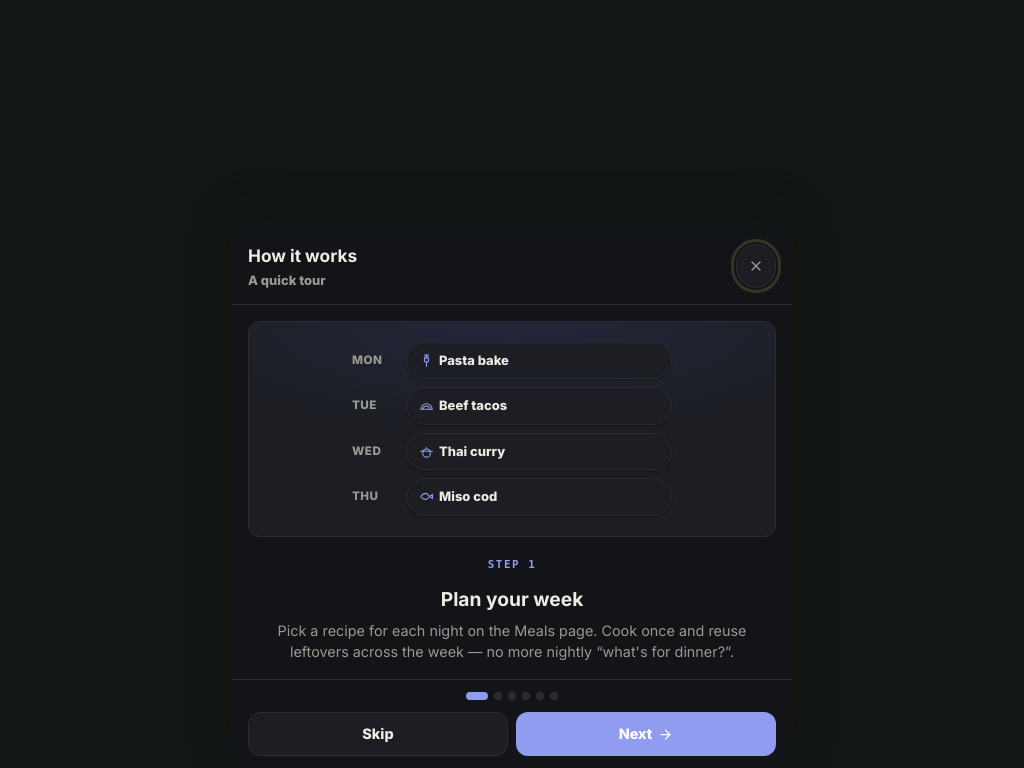
Test: WalkthroughSheet › jumps to a step via its dot
Click the tab named "Step 6: Cook from your shop" at (554, 696), box left=550, top=692, right=558, bottom=700
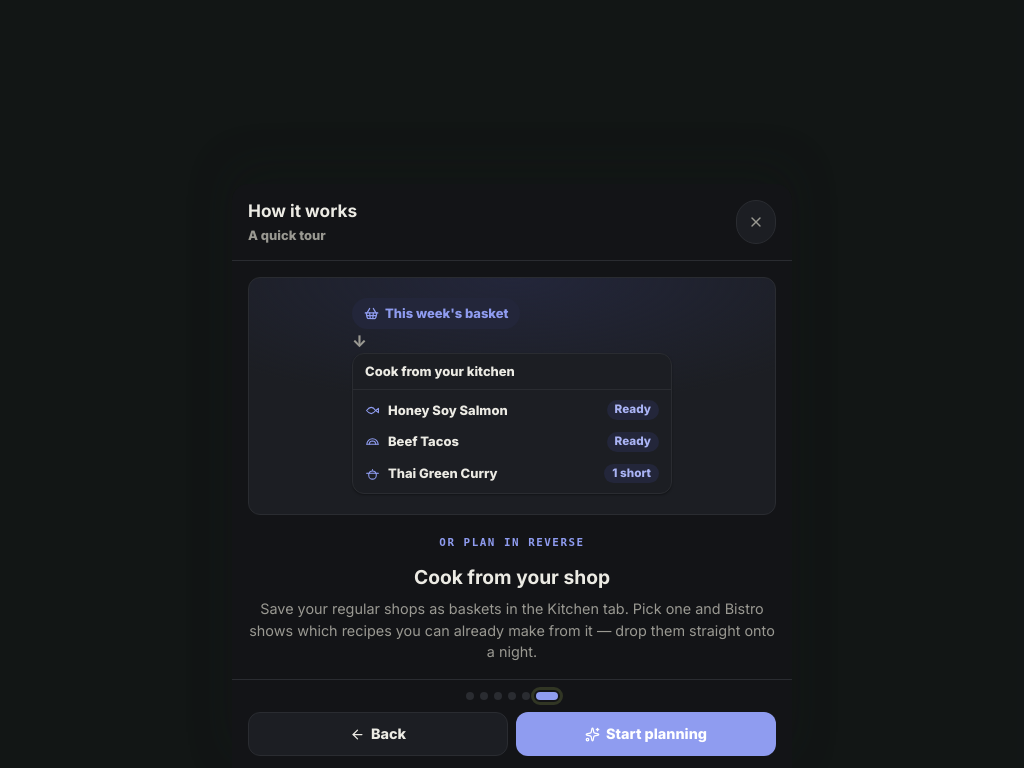
Result: the button "Start planning" is shown at left=516, top=712, right=776, bottom=756
